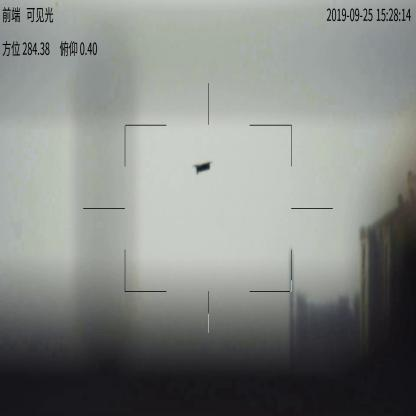uav: (194, 160, 212, 173)
